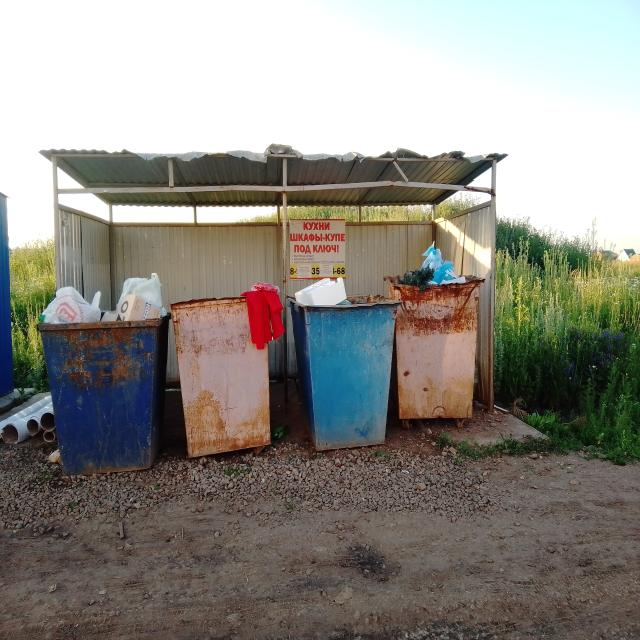bin: (44, 321, 166, 496), (176, 284, 274, 468), (290, 302, 394, 450), (397, 284, 489, 427)
trash: (37, 268, 169, 320), (388, 236, 474, 283)
